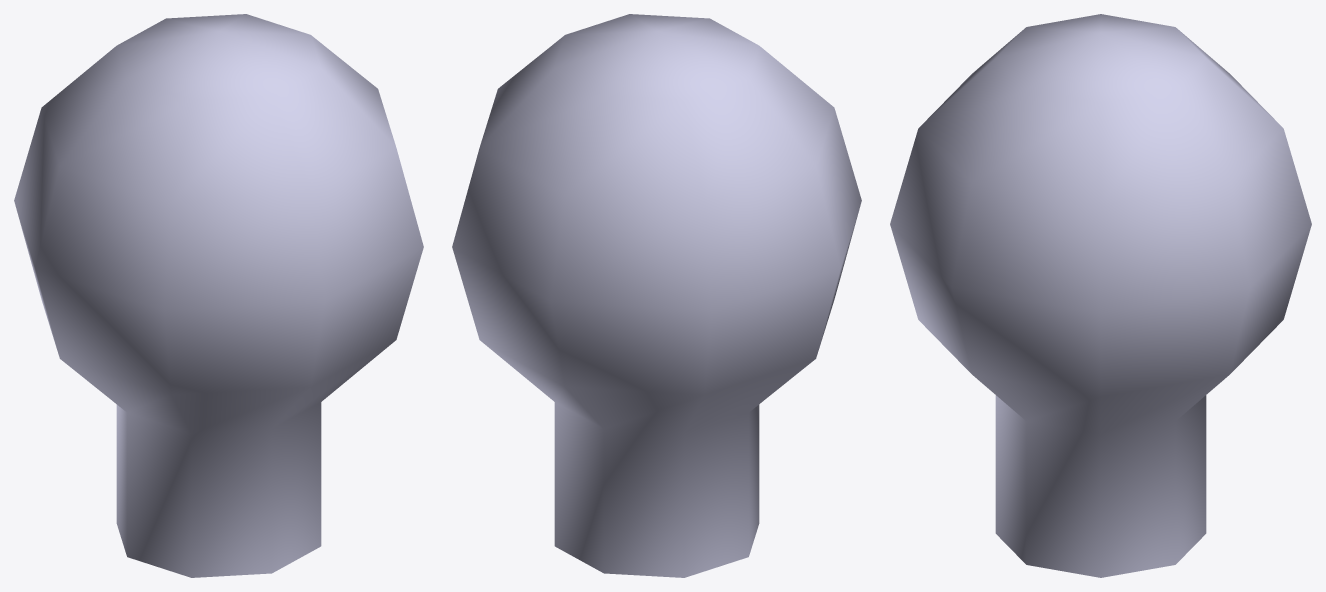
The model's file is lampBulb.fbx.
The picture shows the model from 3 angles, left to right: view 1: azimuth 30°, elevation 25°; view 2: azimuth 150°, elevation 25°; view 3: azimuth 270°, elevation 25°; orthographic projection.
Visible parts, largest first — view 1: lampBulb; view 2: lampBulb; view 3: lampBulb.
Part boxes in pixels (x1,y1,x2,y2): lampBulb: [14, 14, 423, 577]; lampBulb: [452, 14, 861, 577]; lampBulb: [890, 14, 1311, 577].
Size of the model in its own units: 5.62 by 7.35 by 5.62.
